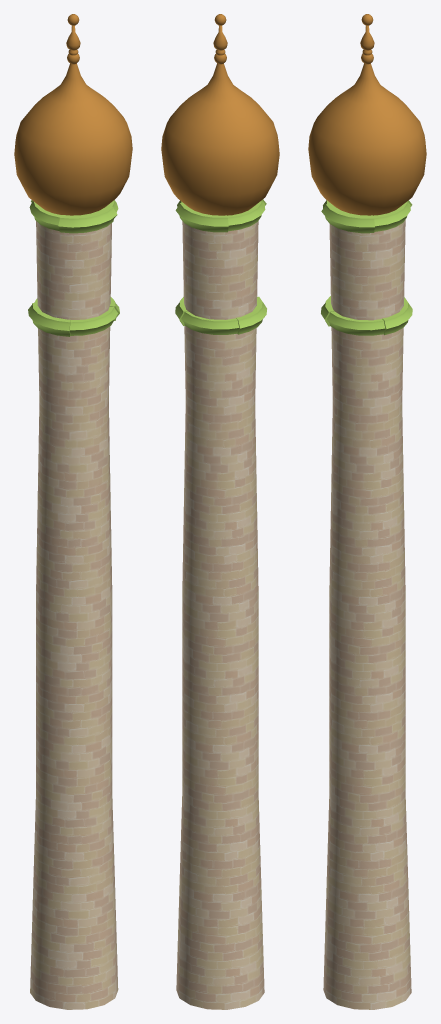
Rendered from SM_minaret_03.fbx.
3 renders of one model, left to right at view 1: azimuth 30°, elevation 25°; view 2: azimuth 150°, elevation 25°; view 3: azimuth 330°, elevation 25°, orthographic.
Parts seen in each view (by area): view 1: Cylinder424437; view 2: Cylinder424437; view 3: Cylinder424437.
Part boxes in pixels (x1,y1,x2,y2): Cylinder424437: (14, 14, 132, 1009); Cylinder424437: (161, 14, 279, 1009); Cylinder424437: (308, 14, 426, 1009).
Bounding box in the file's own units: 110 × 1001 × 108.
